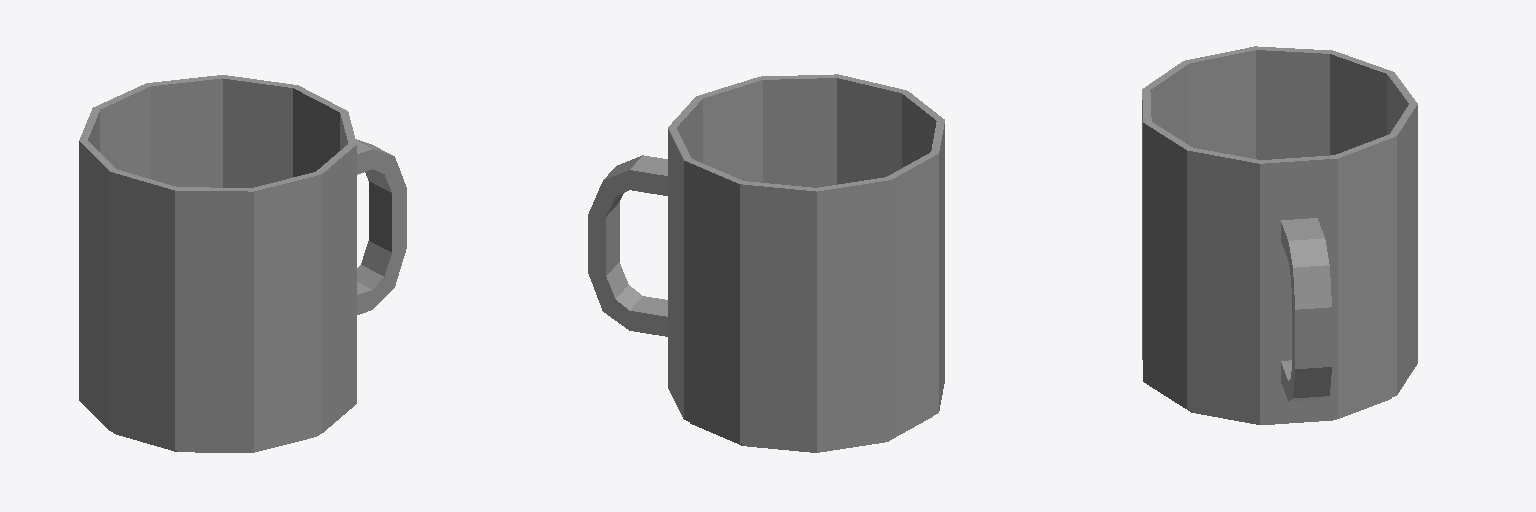
The model's file is Glass_3.obj.
3 views of the same model, side by side, from view 1: azimuth 30°, elevation 25°; view 2: azimuth 150°, elevation 25°; view 3: azimuth 270°, elevation 25° (orthographic).
Parts seen in each view (by area): view 1: Glass_3_Cylinder.002; view 2: Glass_3_Cylinder.002; view 3: Glass_3_Cylinder.002.
Part boxes in pixels (left/top/right/bottom): Glass_3_Cylinder.002: left=79, top=75, right=406, bottom=452; Glass_3_Cylinder.002: left=588, top=74, right=944, bottom=452; Glass_3_Cylinder.002: left=1142, top=46, right=1417, bottom=424.
Size of the model in its own units: 0.128 by 0.1019 by 0.0964.